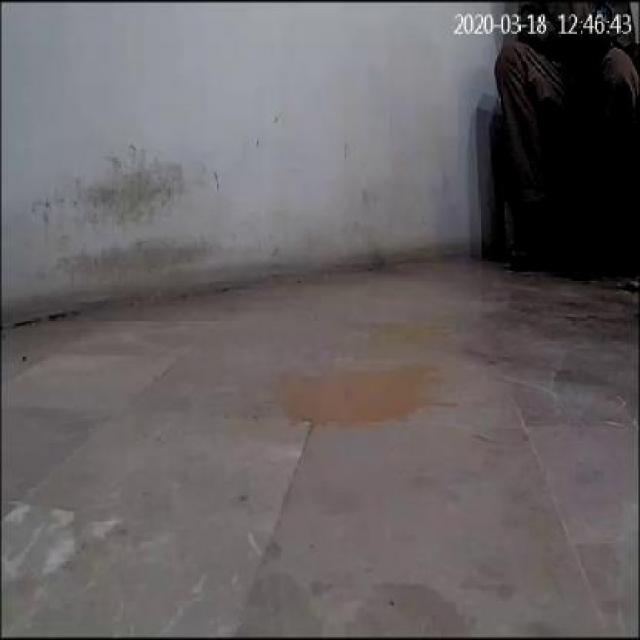spill: (280, 360, 442, 425)
